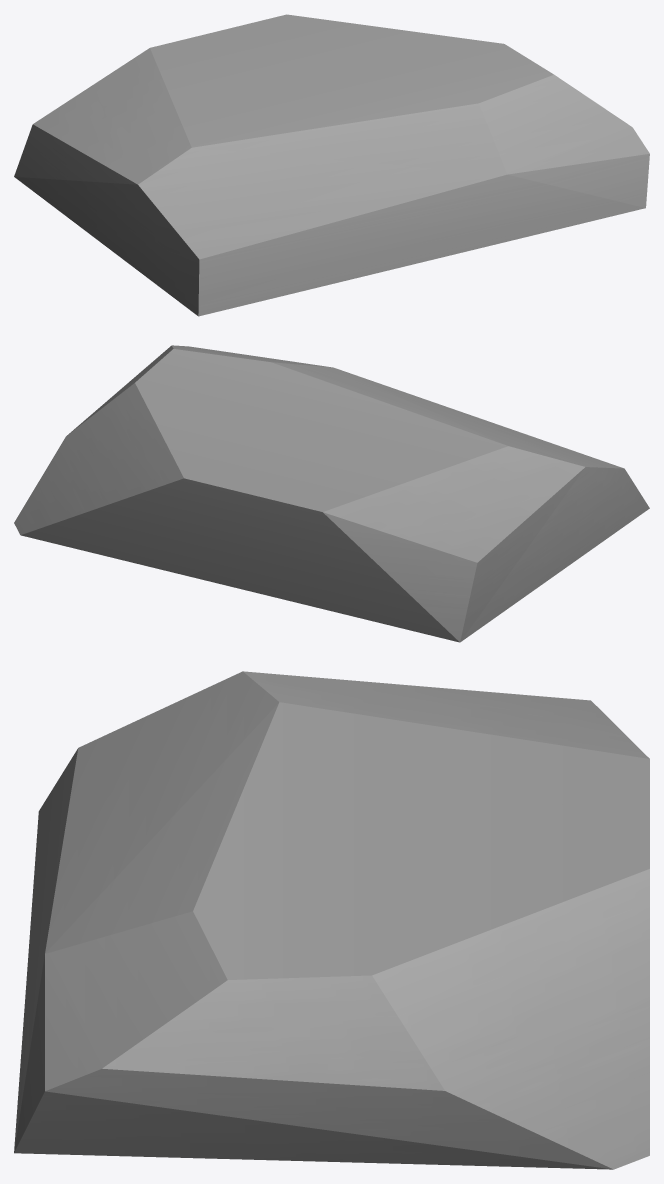
Rendered from SM_Exterior_Piedra_01.fbx.
3 views of the same model, one above another, from view 1: azimuth 30°, elevation 25°; view 2: azimuth 150°, elevation 25°; view 3: azimuth 270°, elevation 25° (orthographic). The views are drawn at different scales.
Parts seen in each view (by area): view 1: SM_Exterior_Piedra1; view 2: SM_Exterior_Piedra1; view 3: SM_Exterior_Piedra1.
Part boxes in pixels (x1,y1,x2,y2): SM_Exterior_Piedra1: [14, 14, 649, 316]; SM_Exterior_Piedra1: [14, 345, 649, 642]; SM_Exterior_Piedra1: [14, 671, 649, 1169].
Bounding box in the file's own units: 255 × 53.18 × 189.
